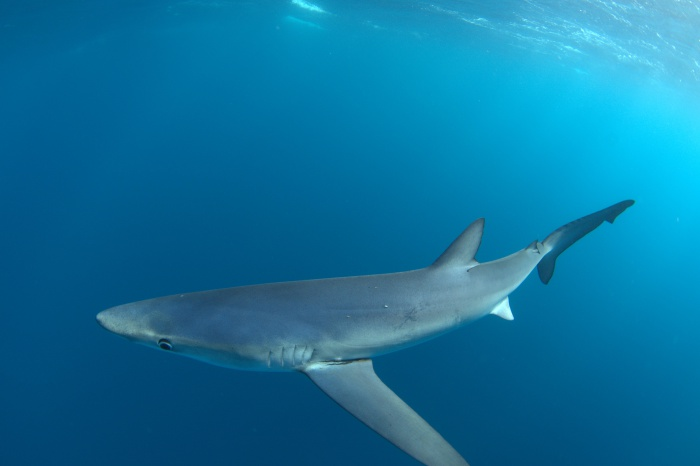Azul: (63, 190, 655, 466), (109, 132, 531, 332)
